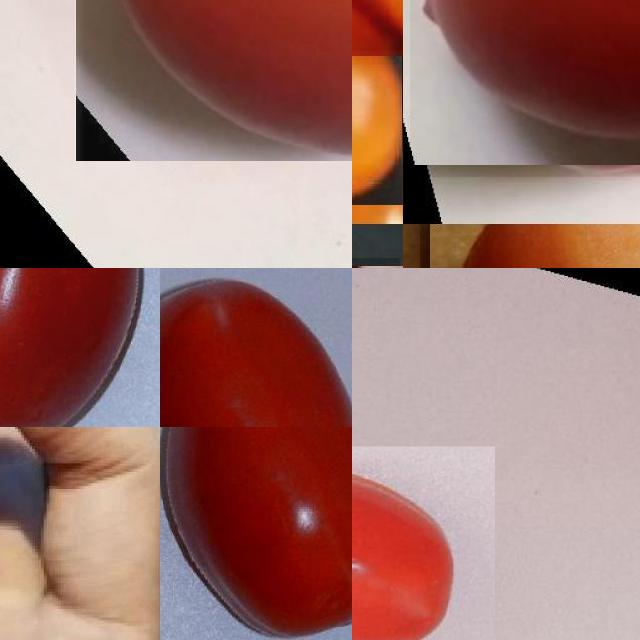Fresh Tomato: (75, 0, 352, 161), (160, 427, 352, 640), (410, 0, 640, 177), (160, 268, 352, 427), (352, 446, 494, 640), (0, 268, 160, 427), (352, 0, 403, 205)
